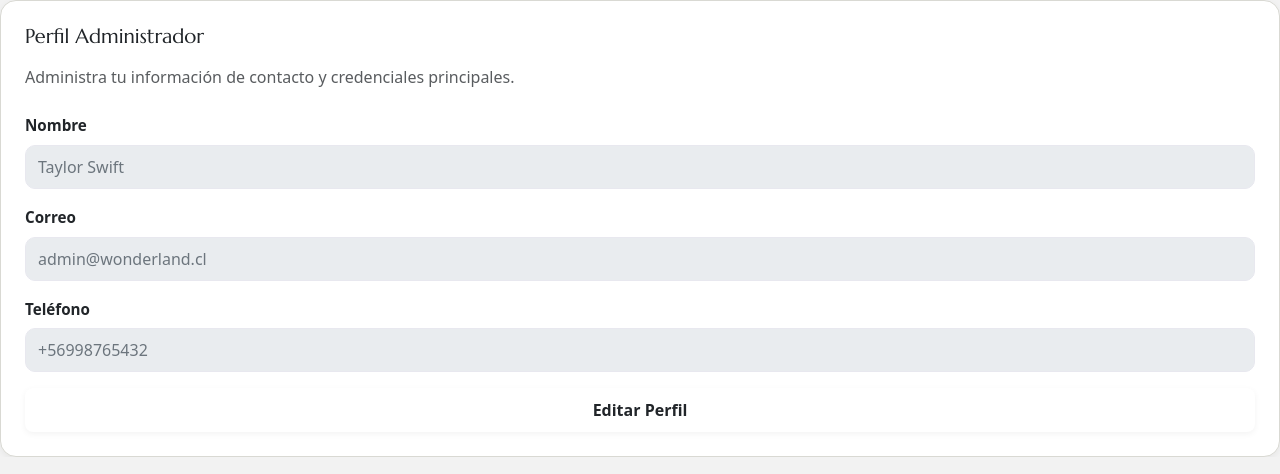
Test case: PerfilAdmin Component › activa el modo edición al presionar 'Editar Perfil'
Click the button "Editar Perfil" at (640, 410), box [25, 388, 1255, 432]
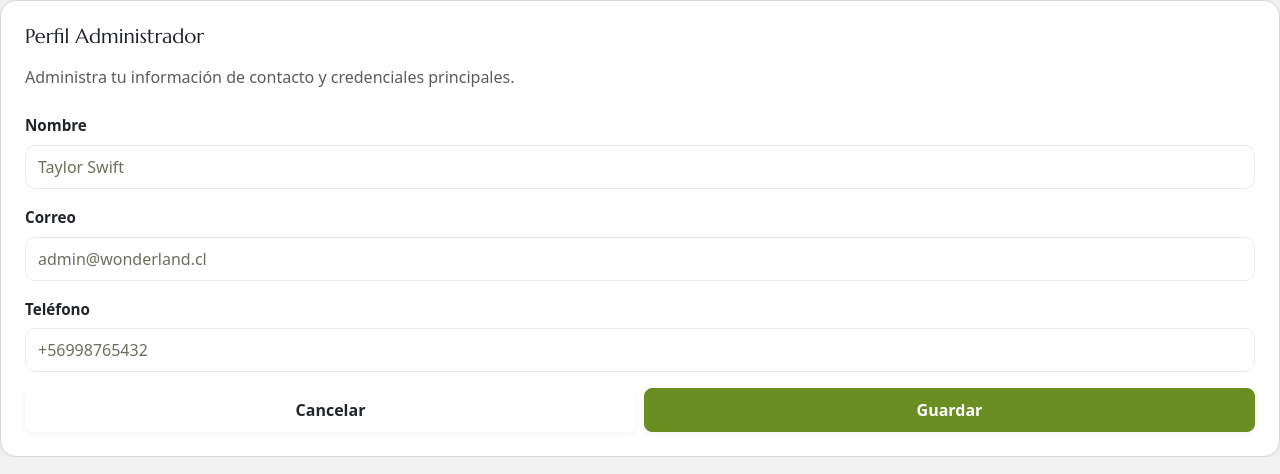
Expected: the field below "Nombre" is enabled, [25, 145, 1255, 189]
Expected: the field below "Correo" is enabled, [25, 237, 1255, 281]
Expected: the field below "Teléfono" is enabled, [25, 328, 1255, 372]
